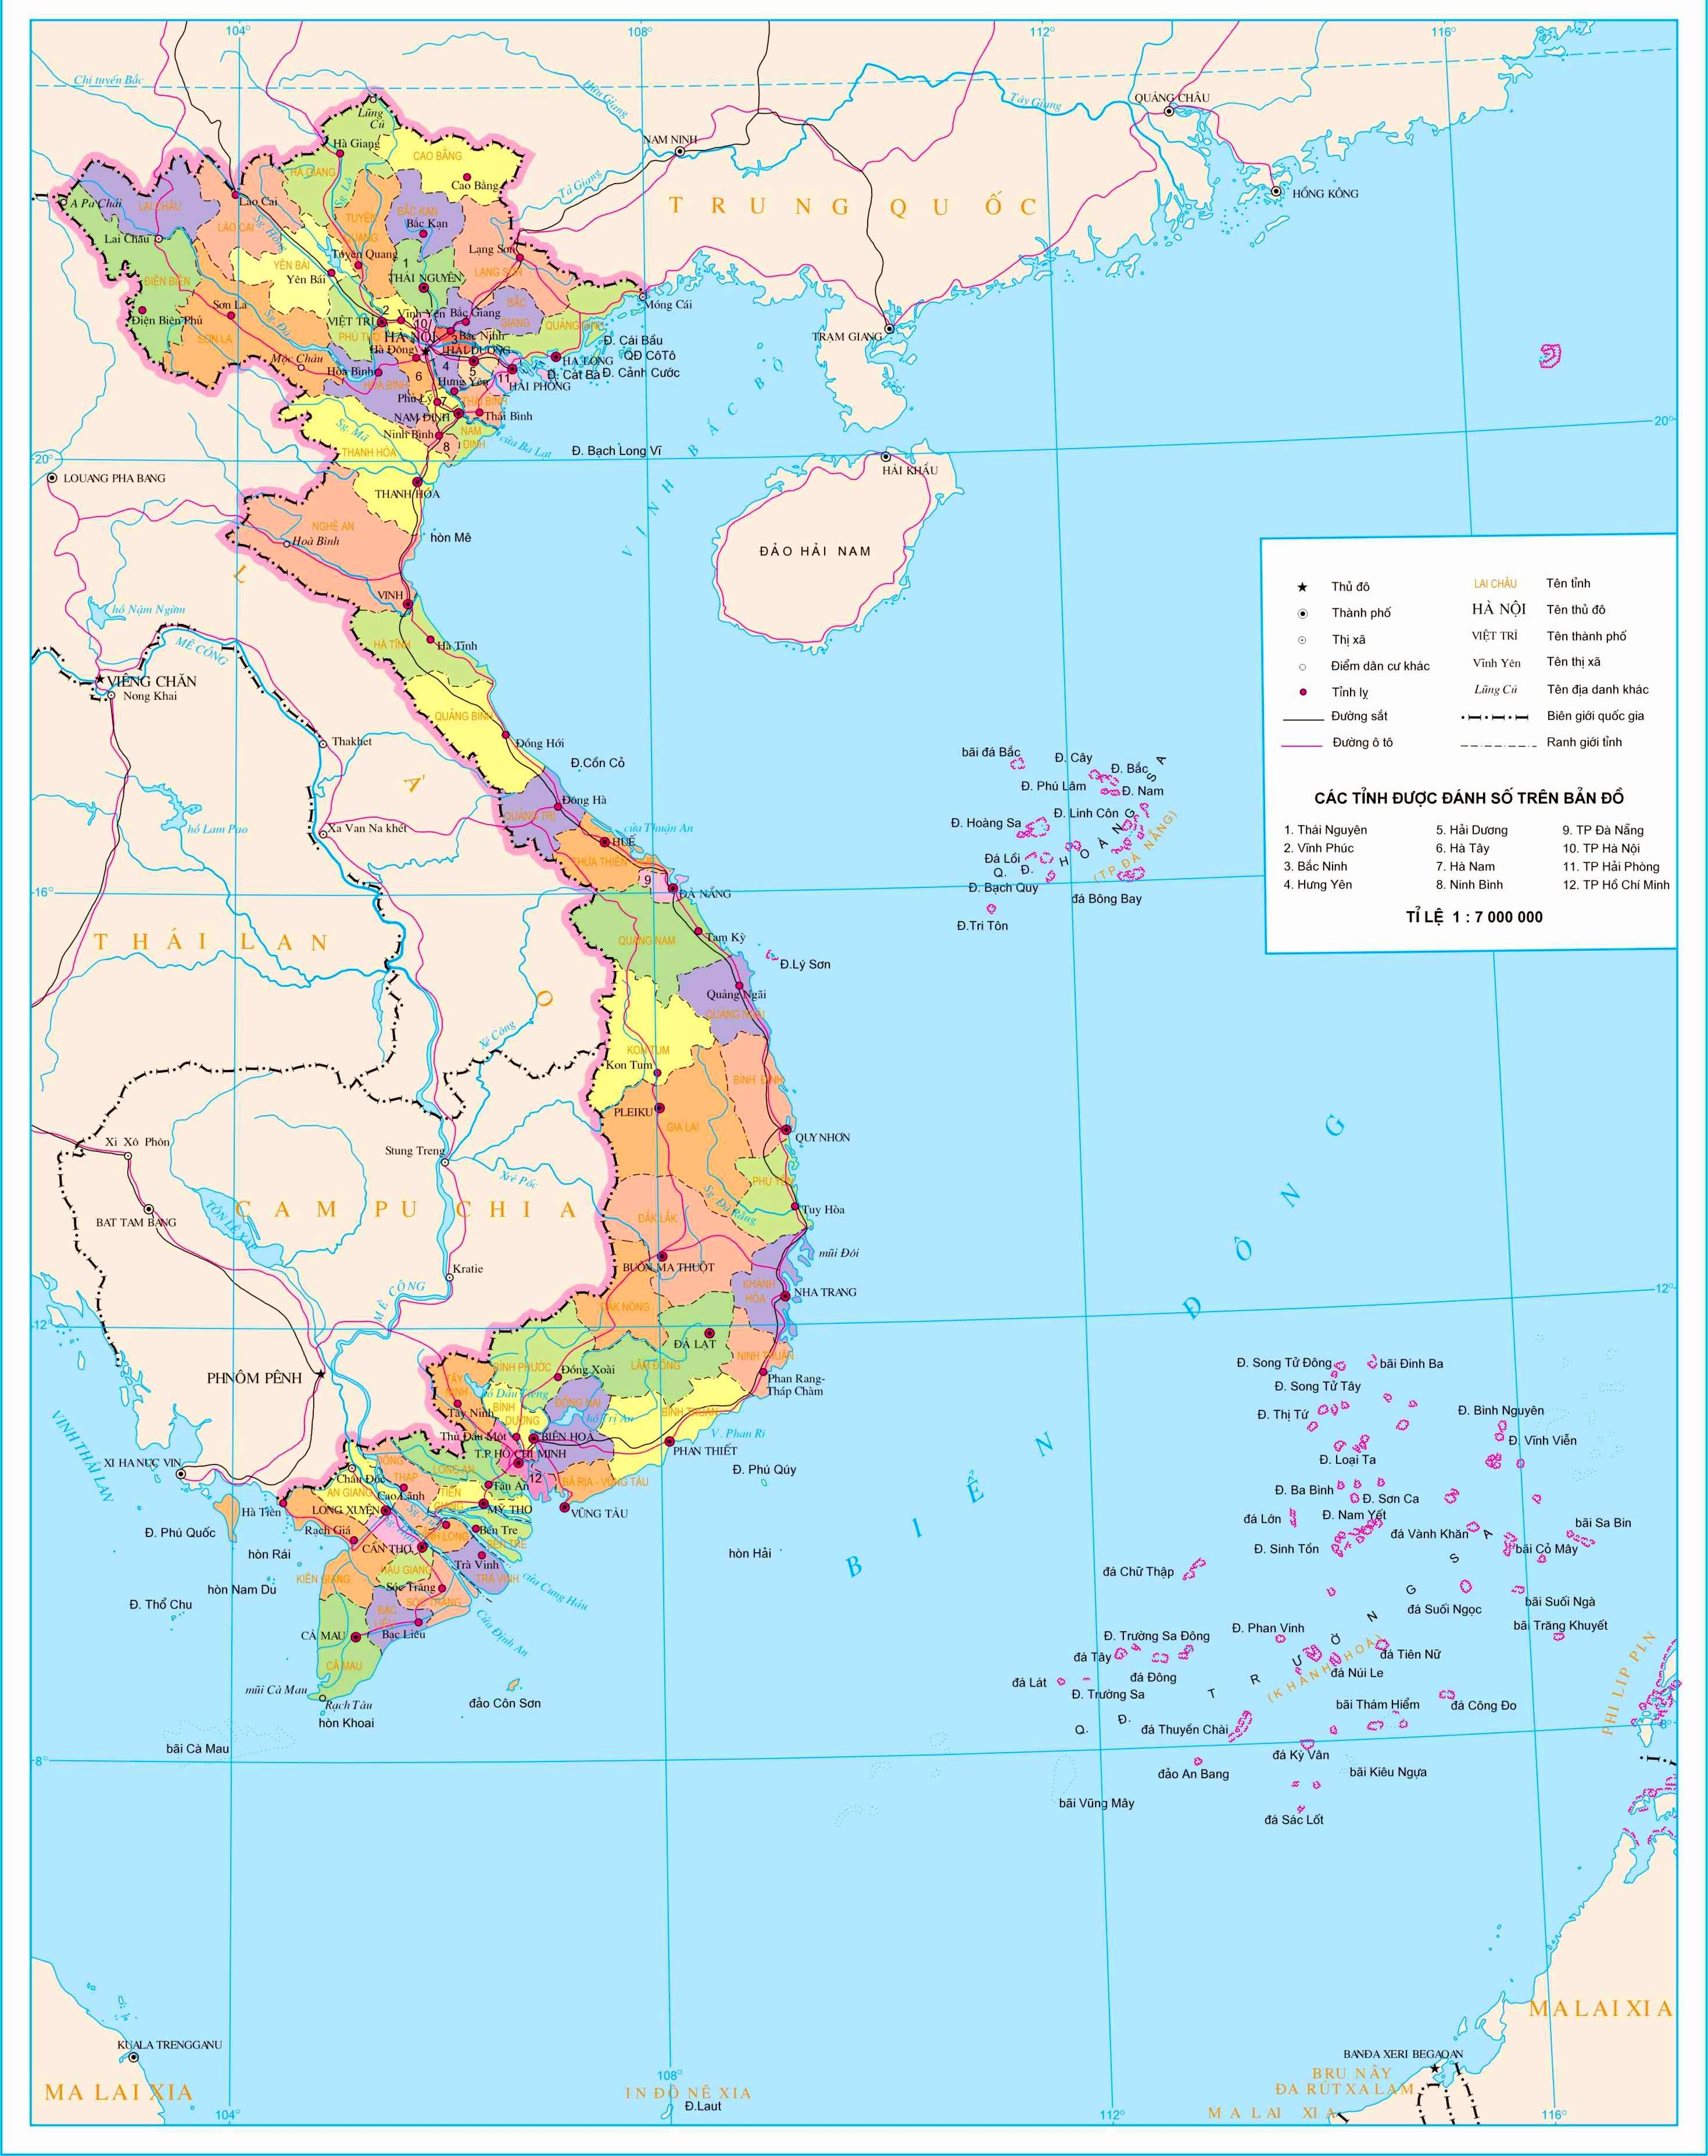Island: (1004, 1340, 1627, 1839), (947, 709, 1185, 961)
